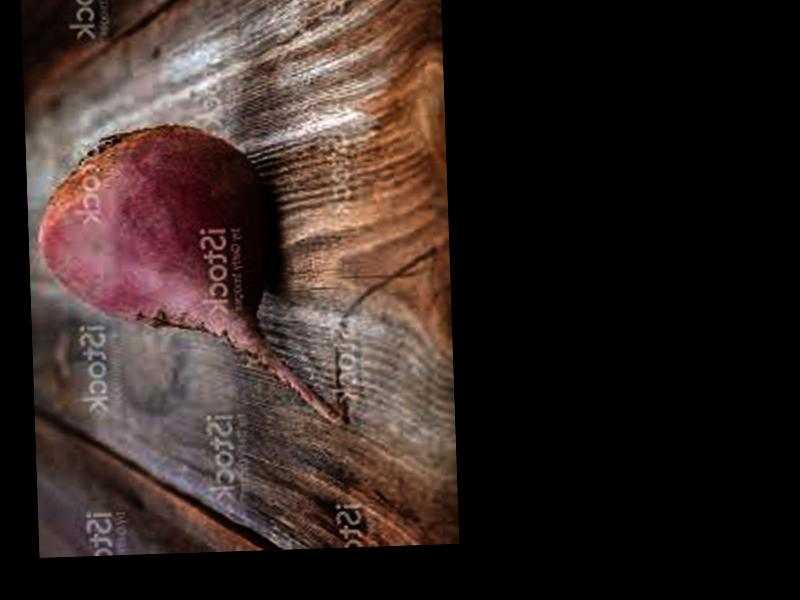Beet: (34, 120, 345, 437)
